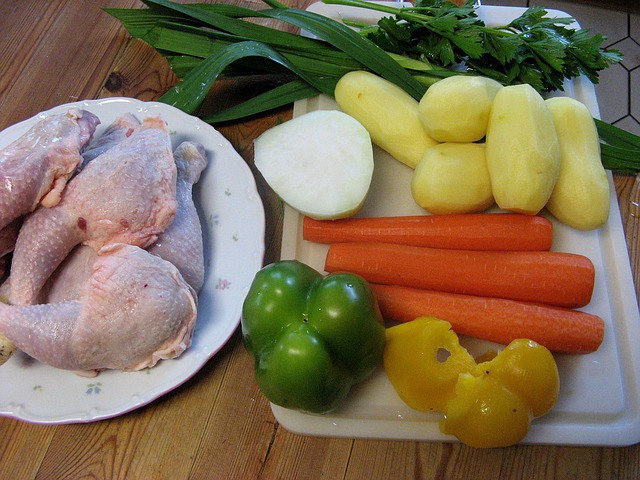boiled potatoes: (339, 71, 452, 169), (544, 97, 621, 235), (492, 77, 563, 217), (407, 138, 502, 213), (415, 71, 510, 141)
